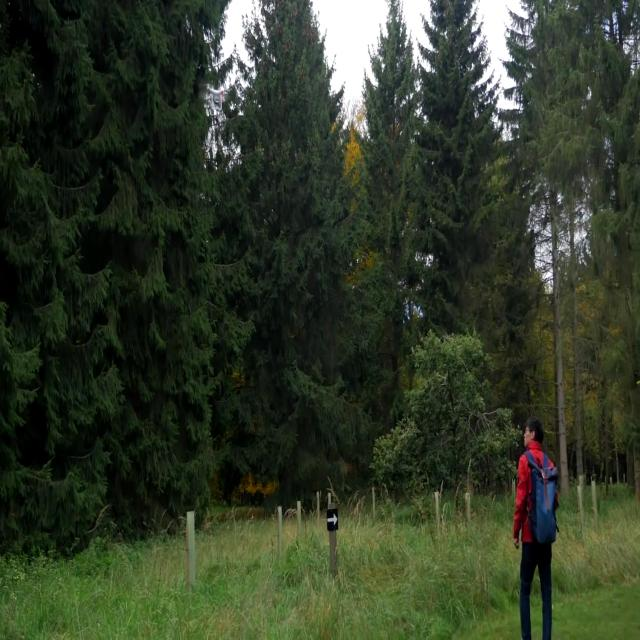drone: (200, 81, 226, 112)
